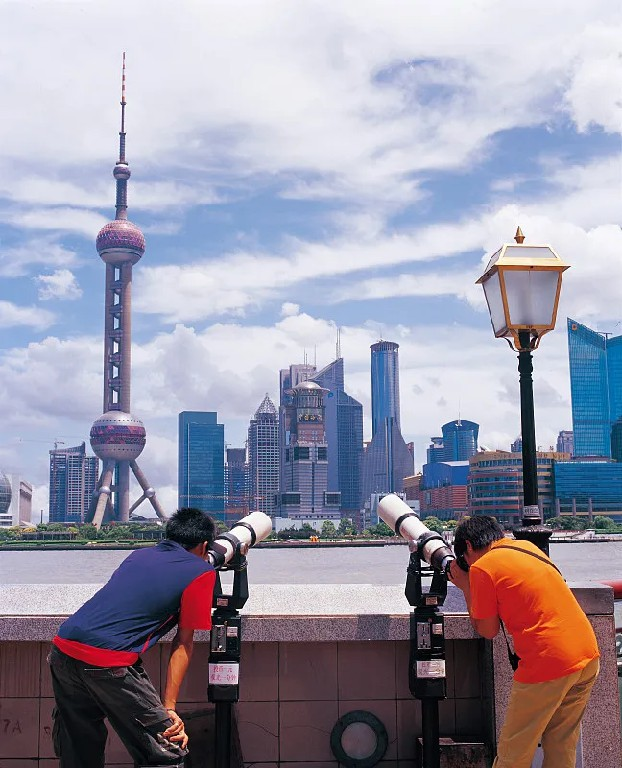Oriental: (89, 53, 162, 523)
